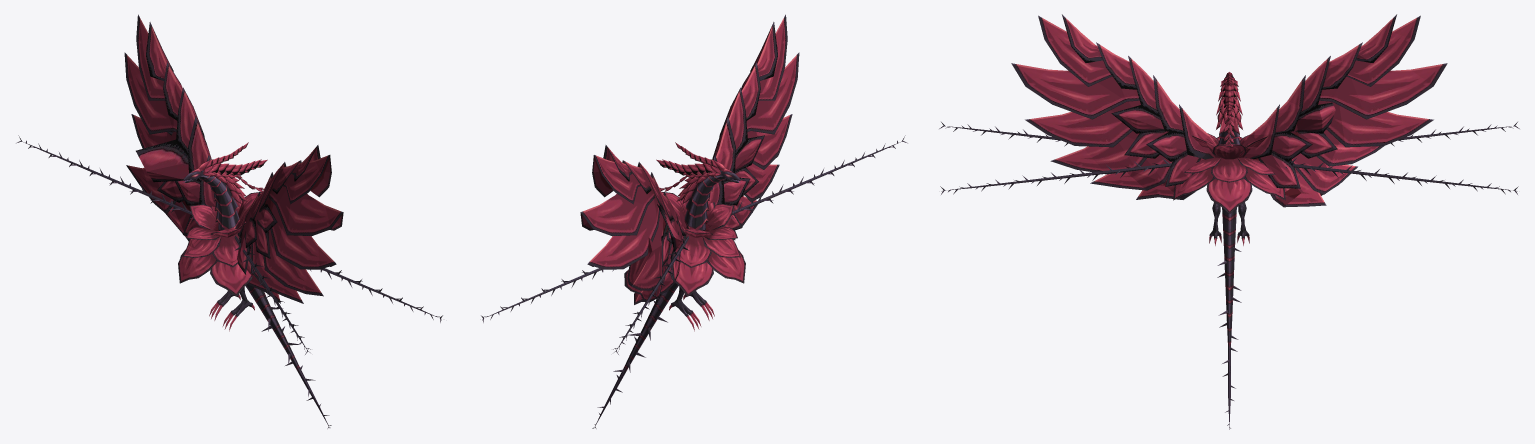
Rendered from TELCRAQZ9RLZIMUZZ1NGORSNV.fbx.
The picture shows the model from 3 angles, left to right: view 1: azimuth 30°, elevation 25°; view 2: azimuth 150°, elevation 25°; view 3: azimuth 270°, elevation 25°; orthographic projection.
Parts seen in each view (by area): view 1: Object_m14_BlackRD_B.jpg, Object_m14_BlackRD_A.jpg; view 2: Object_m14_BlackRD_B.jpg, Object_m14_BlackRD_A.jpg; view 3: Object_m14_BlackRD_B.jpg, Object_m14_BlackRD_A.jpg.
Part boxes in pixels (x1,y1,x2,y2): Object_m14_BlackRD_B.jpg: (124,14,343,303); Object_m14_BlackRD_A.jpg: (16,135,442,428); Object_m14_BlackRD_B.jpg: (580,14,799,304); Object_m14_BlackRD_A.jpg: (481,135,907,428); Object_m14_BlackRD_B.jpg: (1011,14,1447,213); Object_m14_BlackRD_A.jpg: (939,72,1519,429).
Size of the model in its own units: 0.8507 by 1.75 by 2.5.
2 materials, 2 textured.
